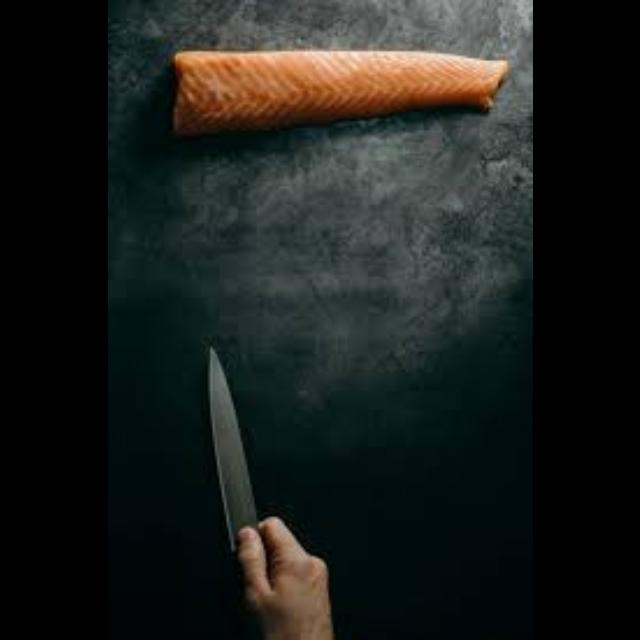Knife: (206, 342, 260, 552)
Person: (232, 506, 362, 640)
Weapon Holding: (246, 526, 342, 640)
